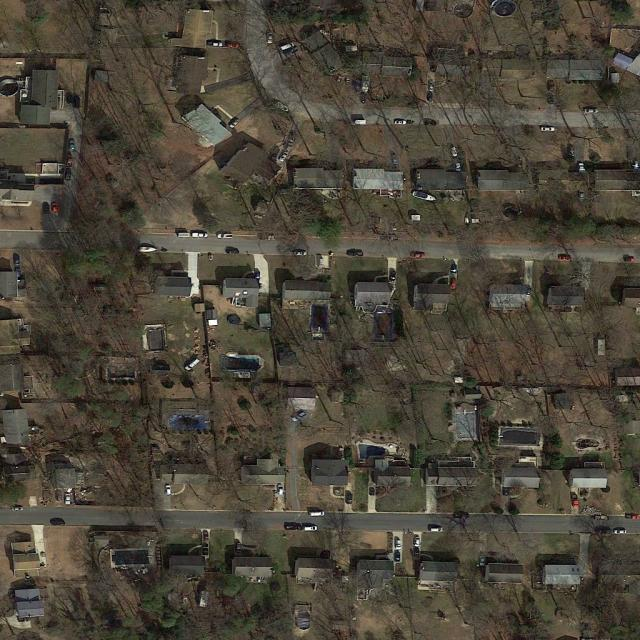large-vehicle: (185, 358, 201, 372), (292, 411, 306, 423), (571, 494, 579, 509)
ship: (412, 190, 439, 203), (274, 101, 290, 113), (361, 76, 371, 93), (136, 246, 159, 252), (354, 78, 361, 93)
small-vehicle: (269, 146, 281, 160), (285, 46, 299, 58), (288, 129, 298, 144), (229, 118, 241, 129), (281, 41, 294, 51), (217, 232, 233, 239), (410, 252, 426, 259), (278, 151, 288, 162), (74, 94, 81, 109), (594, 528, 611, 534), (192, 232, 209, 238), (309, 511, 326, 517), (626, 147, 633, 161), (66, 92, 74, 104), (182, 591, 189, 604), (18, 615, 31, 622), (66, 154, 73, 167), (348, 251, 363, 257), (548, 81, 556, 92), (426, 91, 434, 102), (202, 544, 209, 556), (235, 543, 242, 555), (392, 154, 399, 166), (254, 270, 261, 282), (64, 168, 71, 180), (43, 202, 50, 214), (424, 120, 438, 126), (278, 483, 284, 497), (578, 188, 585, 200), (479, 556, 486, 568), (541, 126, 555, 132), (451, 146, 458, 158), (285, 526, 301, 531), (454, 514, 470, 519), (302, 526, 318, 531), (11, 506, 24, 512), (51, 520, 64, 526), (56, 489, 62, 502), (428, 79, 434, 92), (450, 278, 457, 289), (395, 539, 402, 550), (414, 537, 421, 548), (625, 515, 640, 520), (583, 108, 598, 113), (165, 484, 171, 496), (65, 494, 71, 506), (267, 32, 273, 44), (228, 42, 240, 48), (69, 139, 75, 151), (394, 552, 401, 562), (390, 271, 397, 281), (51, 202, 58, 212), (293, 251, 307, 256), (414, 548, 420, 559), (503, 486, 509, 497), (451, 264, 457, 275), (430, 61, 436, 72), (360, 92, 366, 103), (347, 493, 352, 506), (226, 249, 239, 254), (614, 529, 627, 534), (14, 268, 21, 277), (559, 256, 571, 261), (286, 142, 292, 152), (548, 93, 554, 103), (429, 528, 443, 532), (204, 531, 209, 542), (395, 120, 406, 125), (369, 487, 375, 496), (15, 256, 20, 266), (579, 163, 584, 173), (456, 162, 461, 172), (634, 161, 639, 171), (526, 287, 532, 295), (569, 148, 574, 157), (624, 258, 635, 262), (213, 42, 222, 46)
